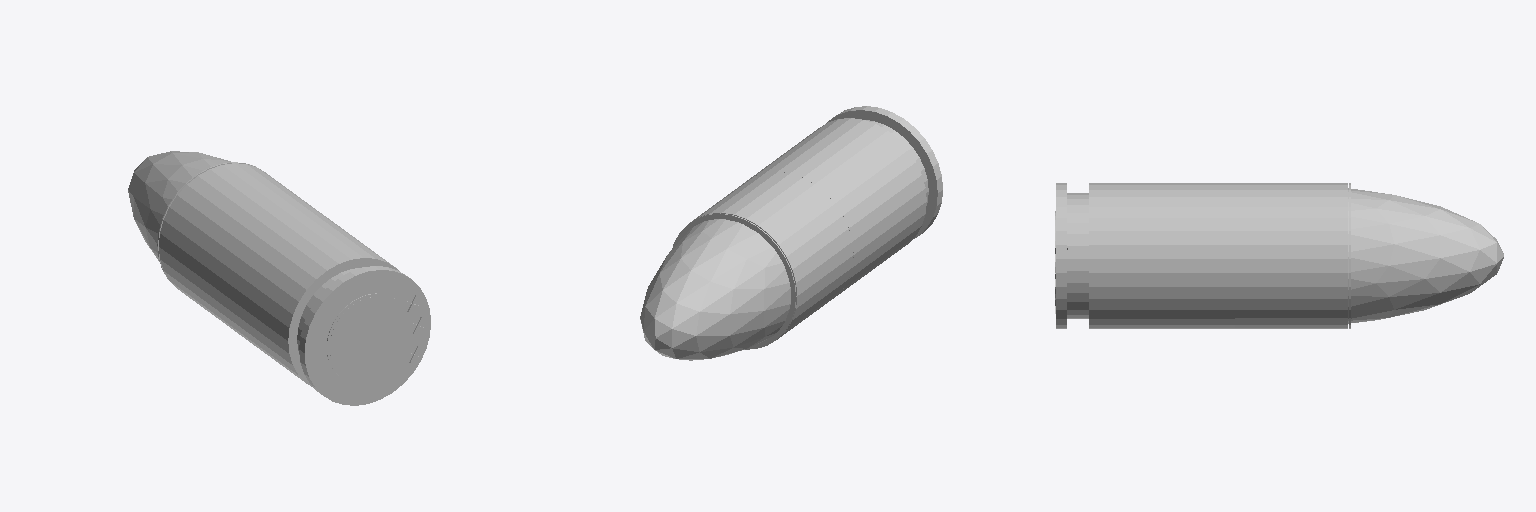
Rendered from bullet.obj.
3 renders of one model, left to right at view 1: azimuth 30°, elevation 25°; view 2: azimuth 150°, elevation 25°; view 3: azimuth 270°, elevation 25°, orthographic.
Visible parts, largest first — view 1: export; view 2: export; view 3: export.
Part boxes in pixels (x1,y1,x2,y2): export: (128,151,430,405); export: (640,106,942,360); export: (1055,183,1503,328).
Size of the model in its own units: 0.0134 by 0.0134 by 0.0412.